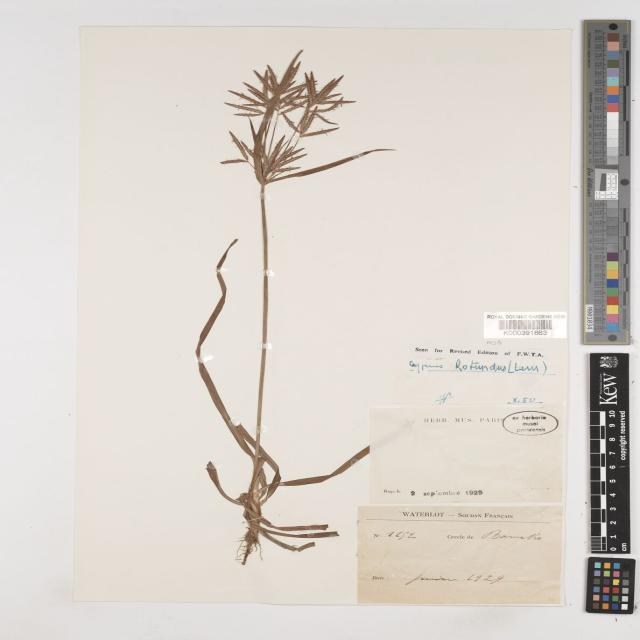cyperus: (211, 51, 362, 182)
